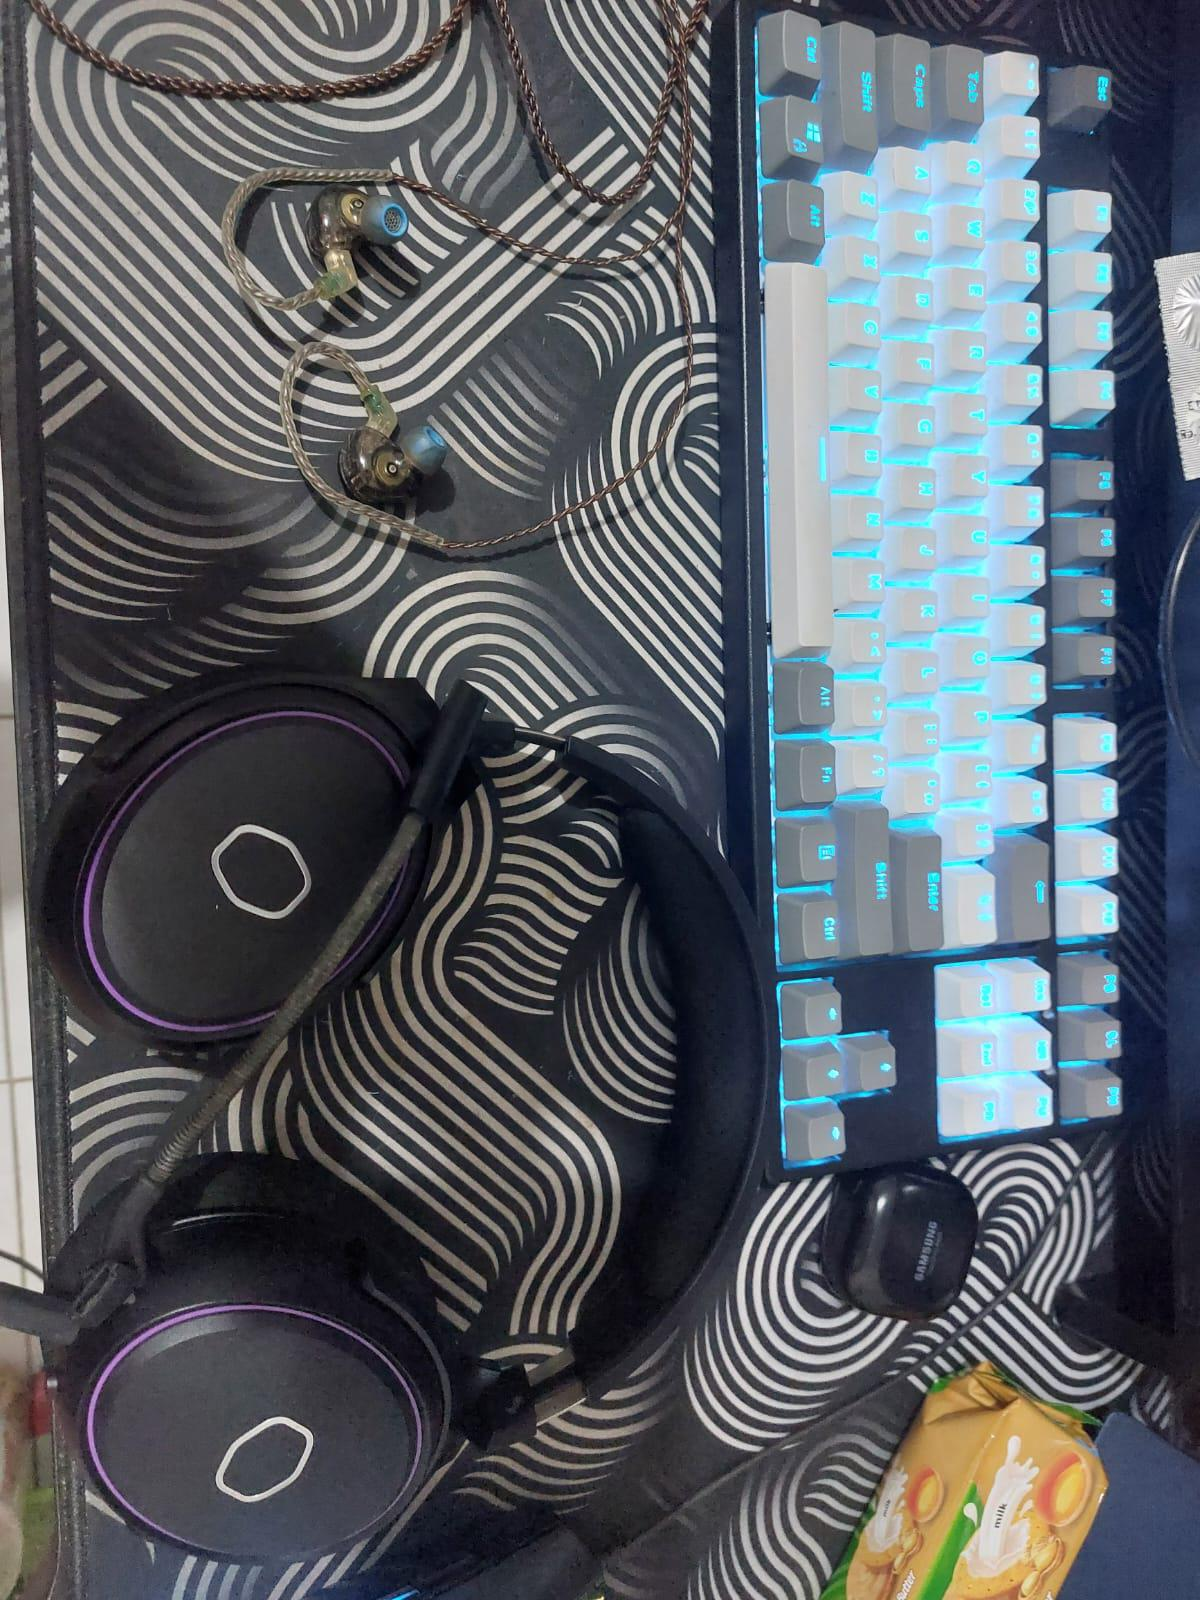Earphone: (320, 373, 458, 515), (292, 183, 430, 311)
Headset: (43, 673, 773, 1577)
